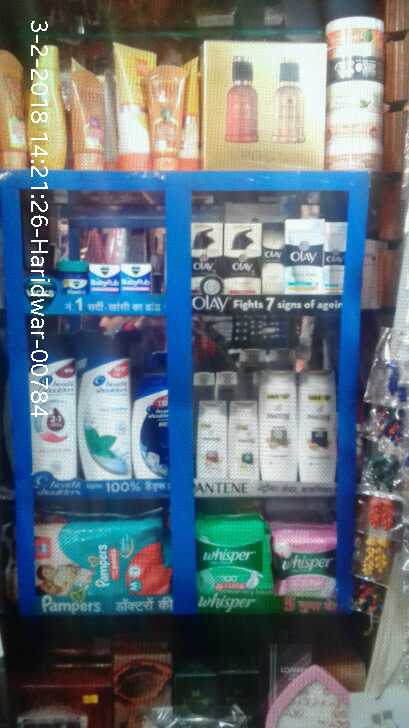vicks: (56, 259, 156, 296)
